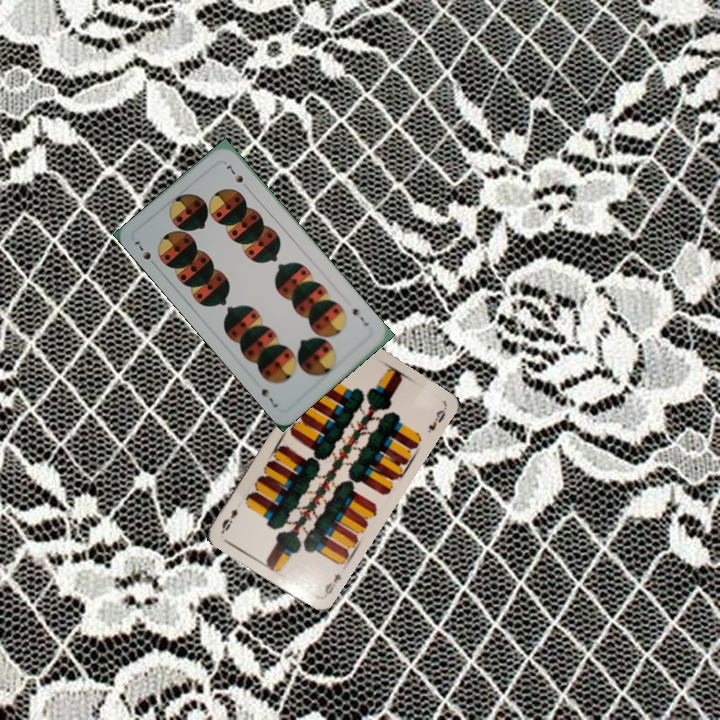E9: (319, 569, 344, 600)
S7: (130, 236, 160, 270), (348, 304, 371, 329)
